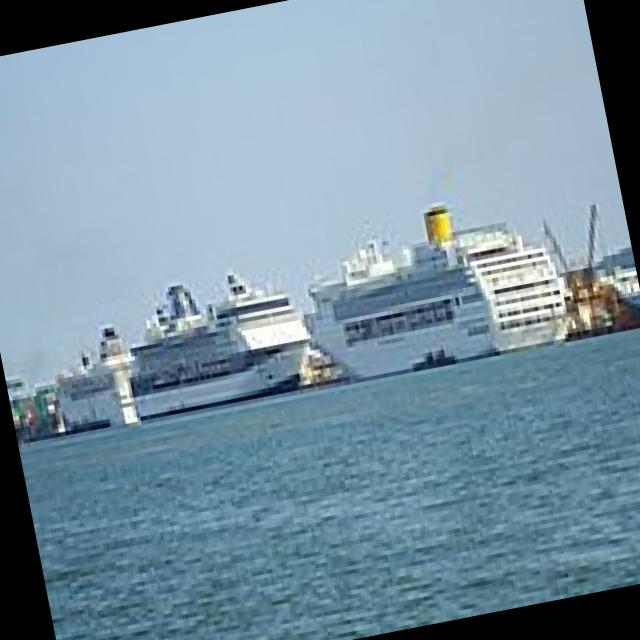boat: (292, 222, 588, 398), (104, 290, 333, 444)
